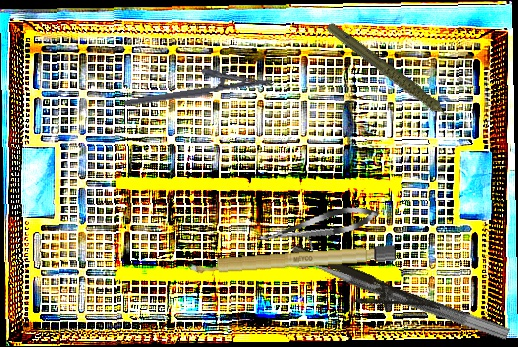Fixation Ring: (287, 230, 517, 342)
Handpiece: (324, 0, 461, 154)
Micro Scissor: (253, 201, 382, 251)
Needle Holder: (284, 242, 442, 334), (120, 58, 275, 108)
Scalpel Handle: (187, 243, 397, 276)
